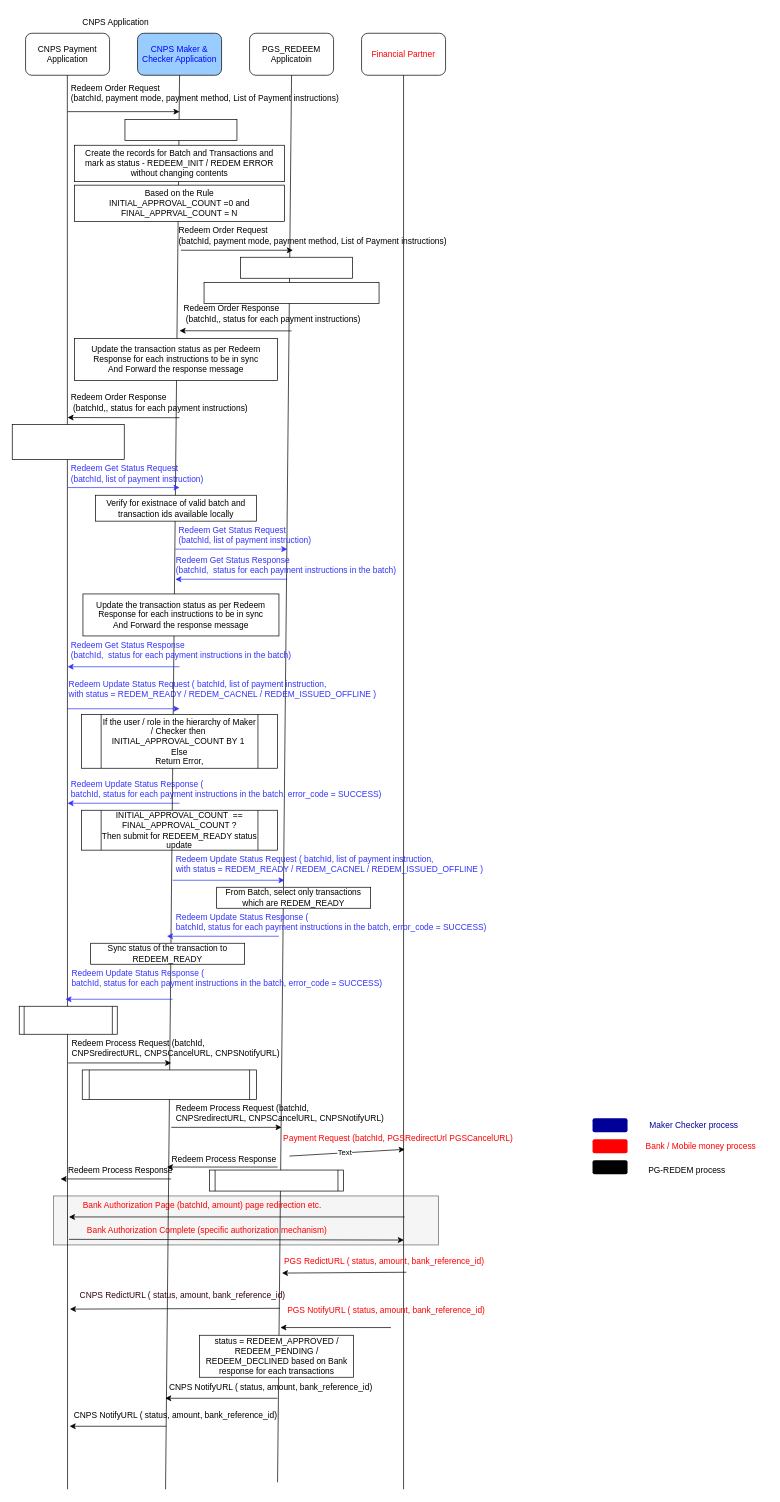
Image size: 780x1502. Some labels were removed from this diagram. The centre of each missing label's shape, as x and y in pixels:
Check if the status of transaction is REDEEM_READY: [169,1084]
REDEEM PAY option on CNPS system: [68,1020]
status = REDEEM_INIT / REDEM_ERROR for each of the payment instructions: [291,292]
Update status to REDEEM_SUBMITTED: [276,1180]
User wanted to process the transactions: [68,442]
Validate statements with Business Rule and Sign: [296,267]
Verify the Identity and Sign calculation of the message: [180,129]
